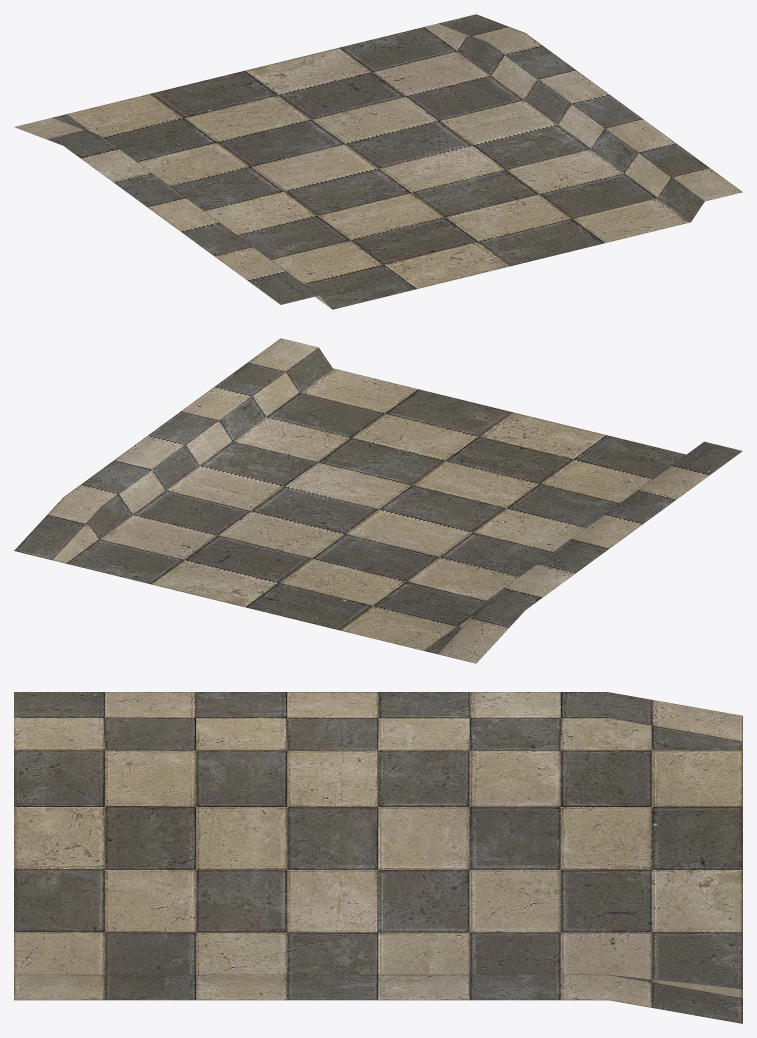
The model's file is room_floor.fbx.
The picture shows the model from 3 angles, top to bottom: view 1: azimuth 30°, elevation 25°; view 2: azimuth 150°, elevation 25°; view 3: azimuth 270°, elevation 25°; orthographic projection. The views are drawn at different scales.
Parts seen in each view (by area): view 1: straight_floor2:pPlane1; view 2: straight_floor2:pPlane1; view 3: straight_floor2:pPlane1.
Part boxes in pixels (x1,y1,x2,y2): straight_floor2:pPlane1: (14, 14, 742, 309); straight_floor2:pPlane1: (14, 338, 742, 663); straight_floor2:pPlane1: (14, 692, 742, 1023).
Bounding box in the file's own units: 60 × 2.15 × 60.
